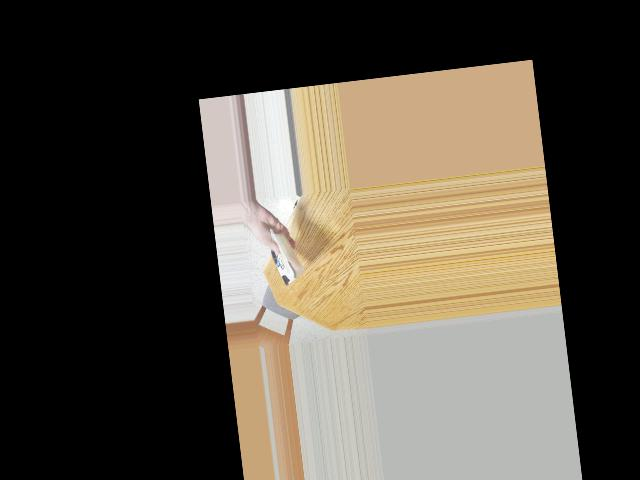cheese: (258, 230, 307, 285)
